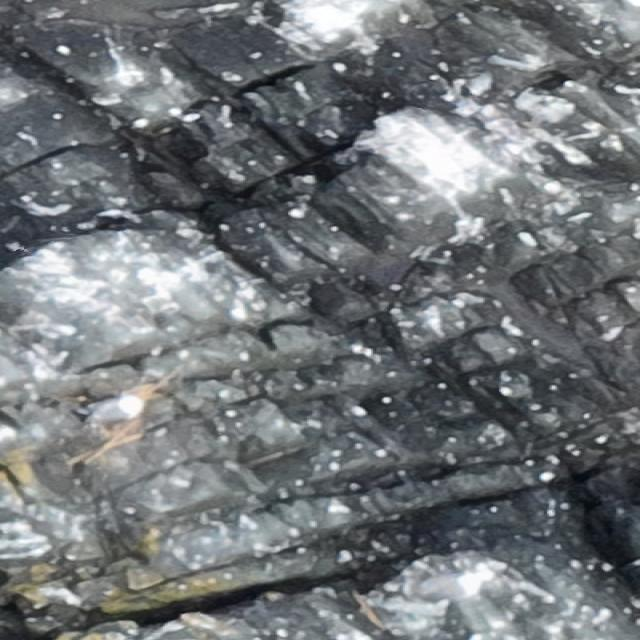umineko: (84, 395, 145, 429)
